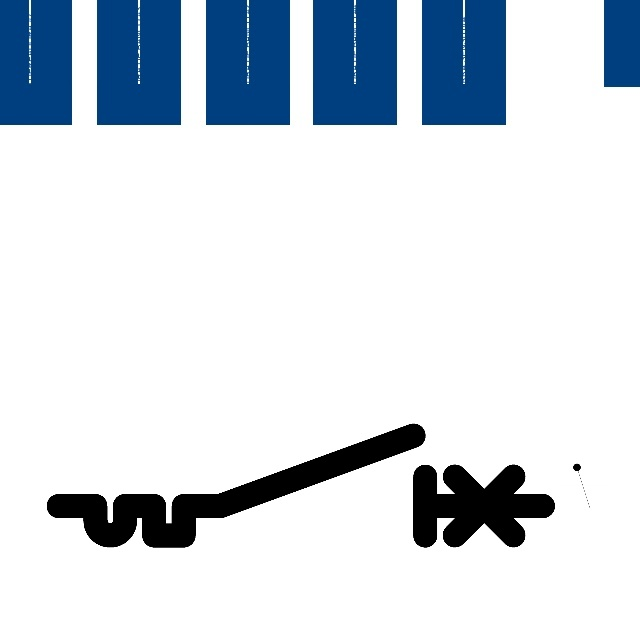interruptor_termomagnetico: (46, 423, 556, 548)
